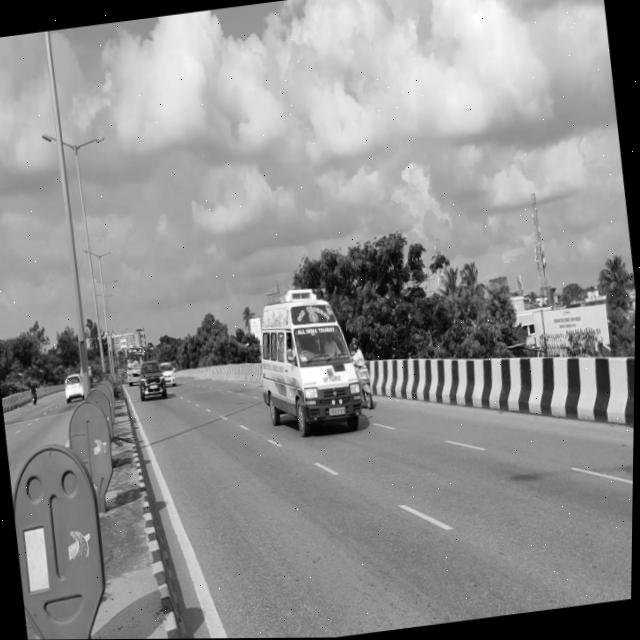truck: (249, 282, 374, 457)
